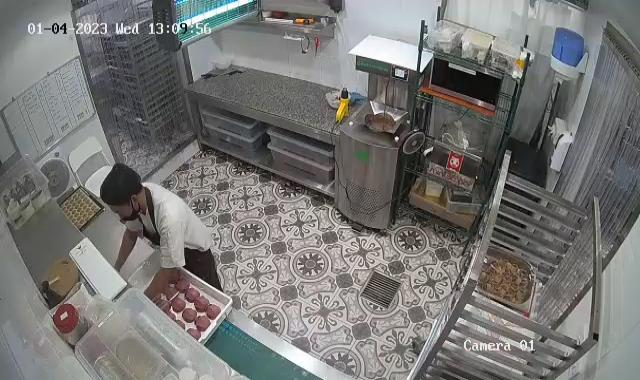no_hairnet: (100, 162, 144, 209)
